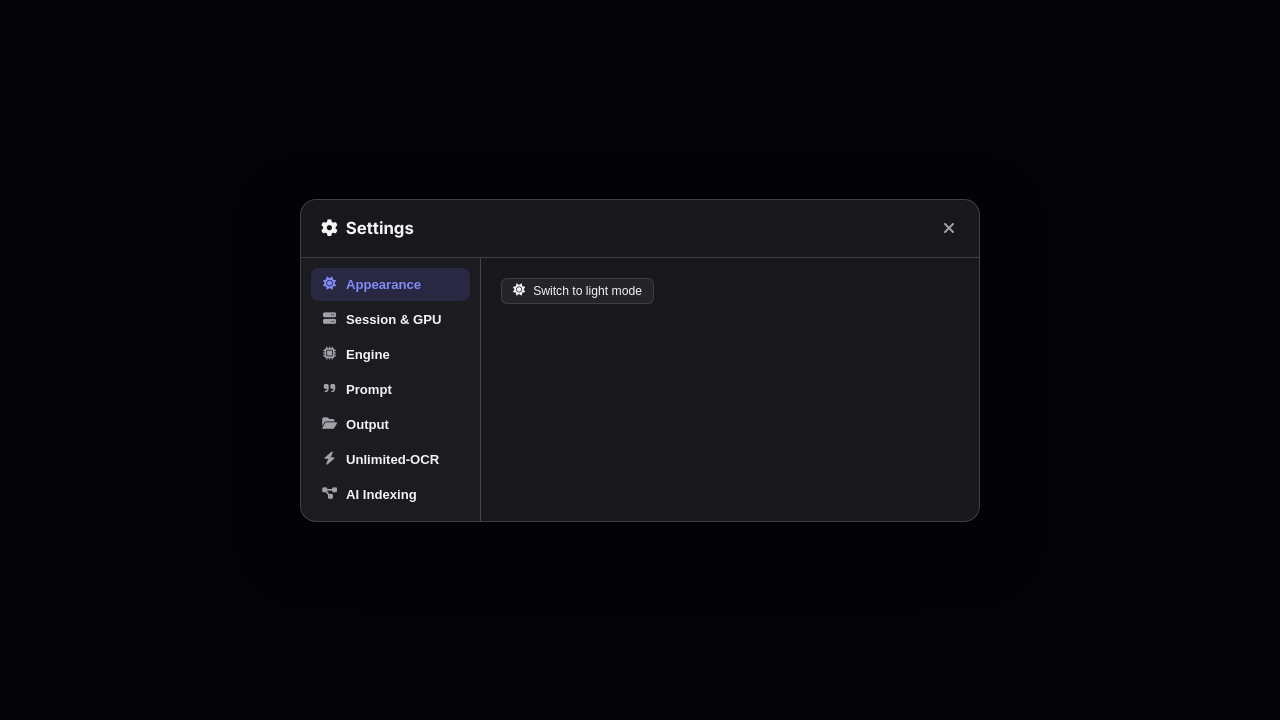
Scenario: SettingsModal — role gating › shows theme toggle for everyone, and Output/Session/Engine nav items + Prompt Save/Reset only for admin
This screenshot has width=1280, height=720.
Expected: the button with test id "theme-toggle-btn" is shown, [501,278,654,304]
Expected: the button with test id "settings-nav-output" is shown, [311,408,470,440]
Click the button with test id "settings-nav-prompt" at (390, 389), box [311,372,470,406]
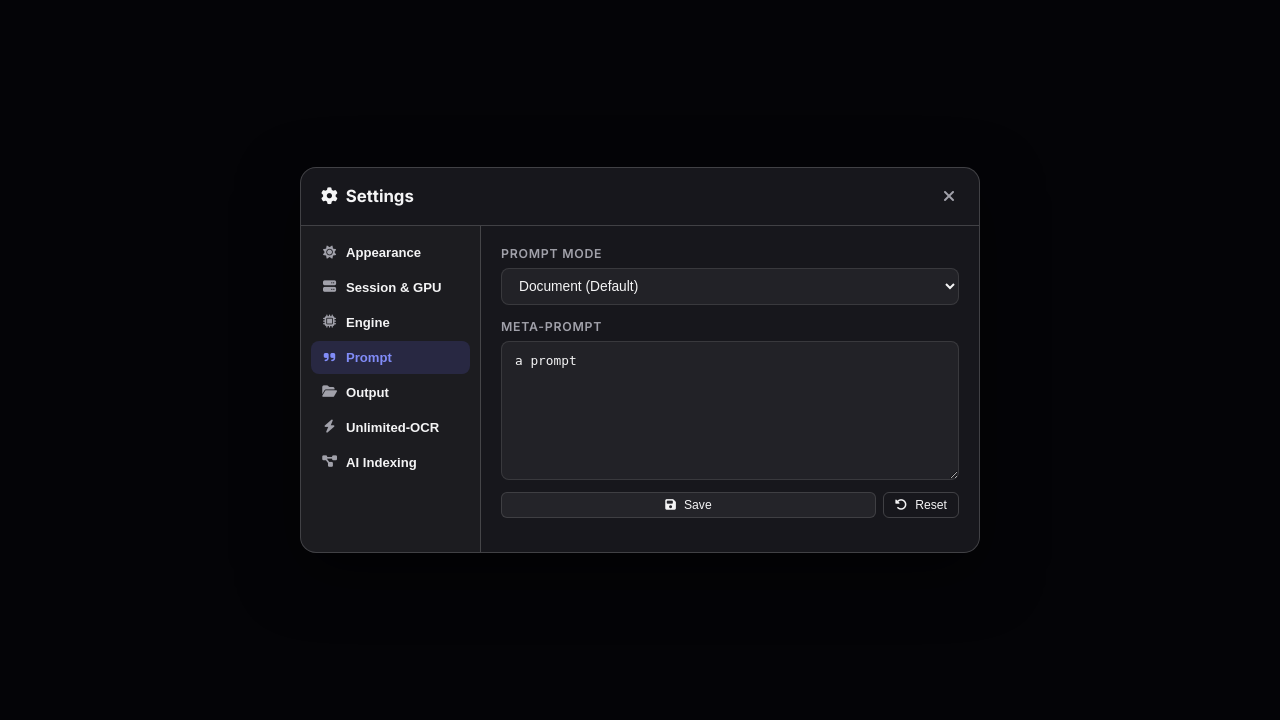
Result: the button "Save" is shown at [501,492,876,518]
Result: the button "Reset" is shown at [883,492,959,518]
